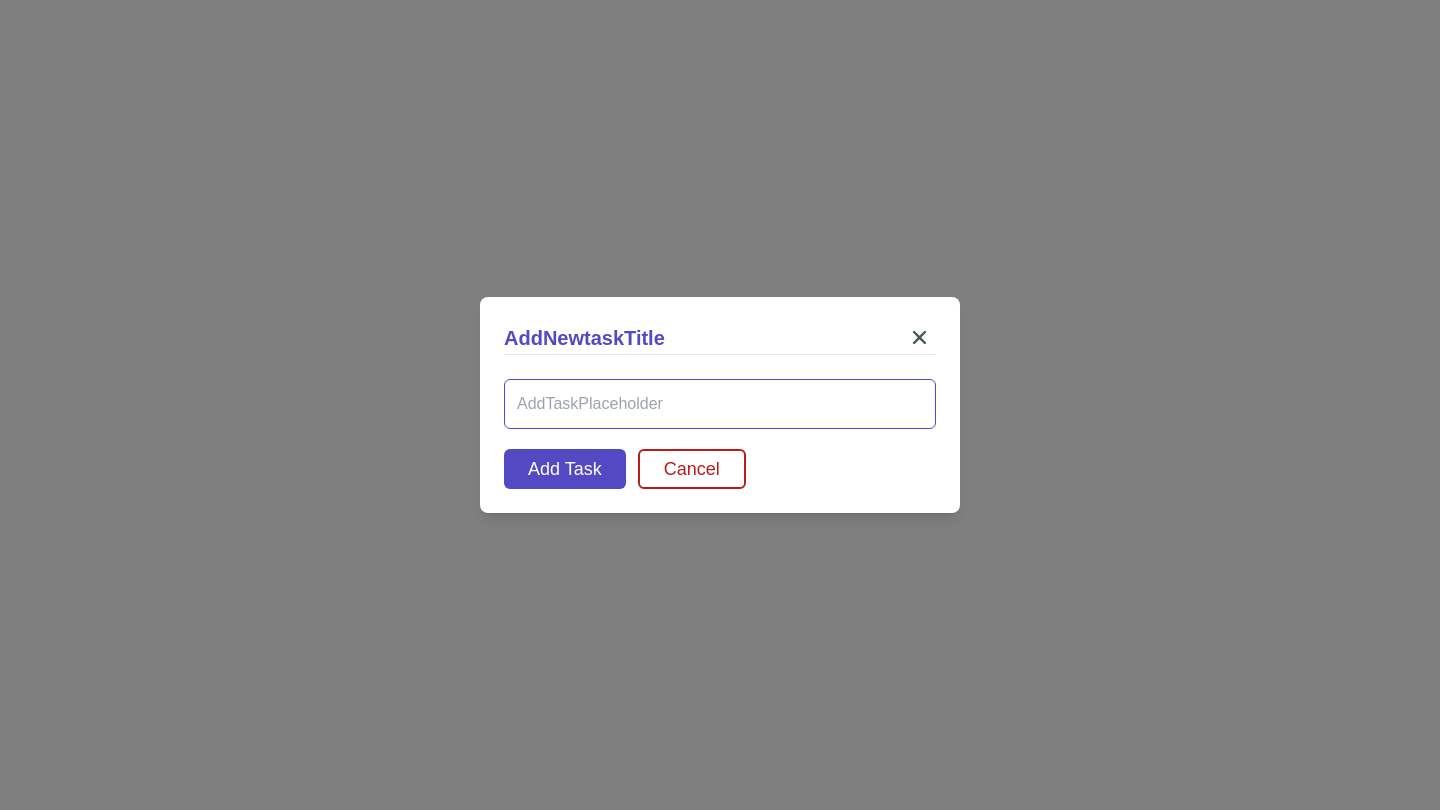
Test: AddNewTask Component › should show error when todo is not provided
Click the button "Add Task": click(565, 469) [504, 449, 626, 489]
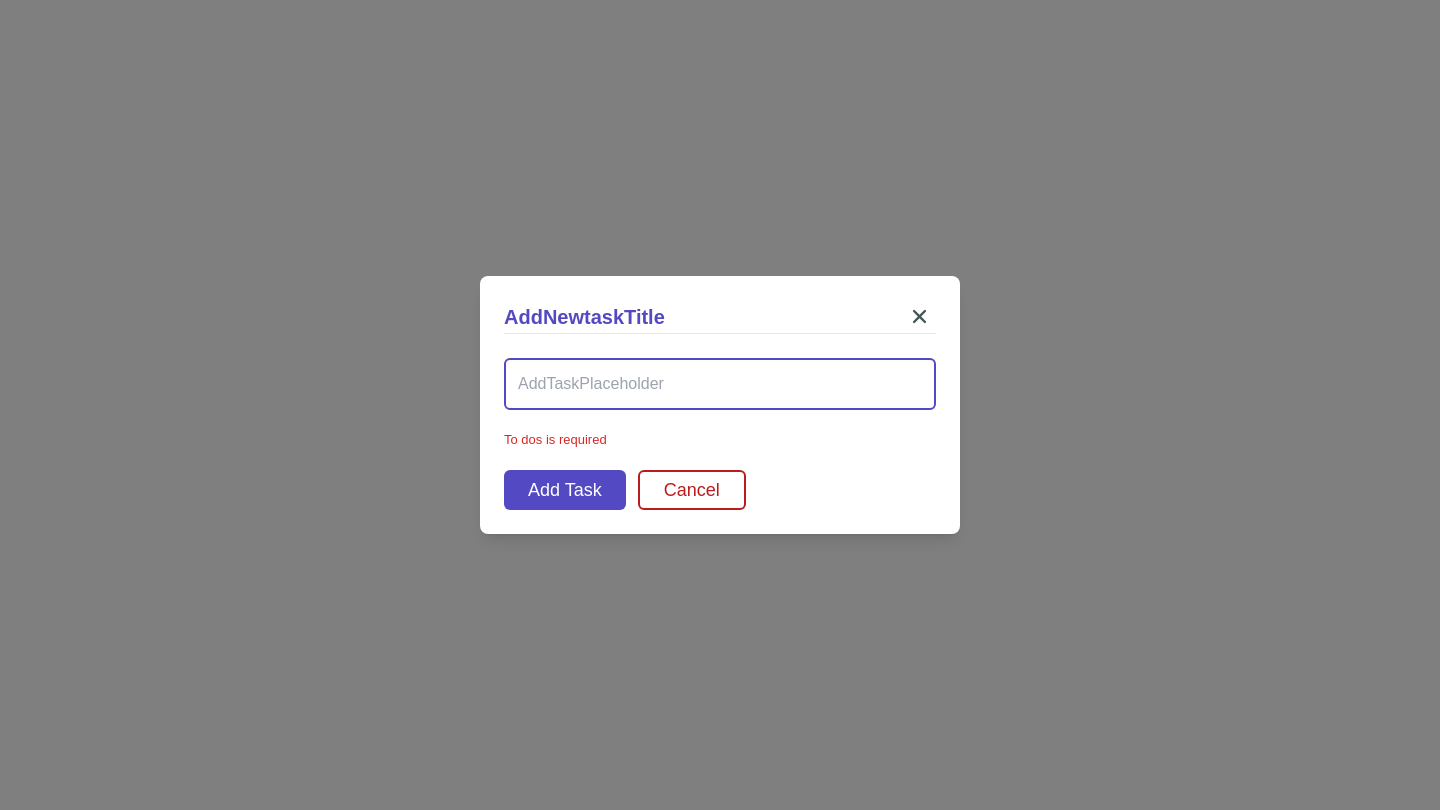
Now the text "To dos is required" is shown, box [504, 432, 607, 447]
